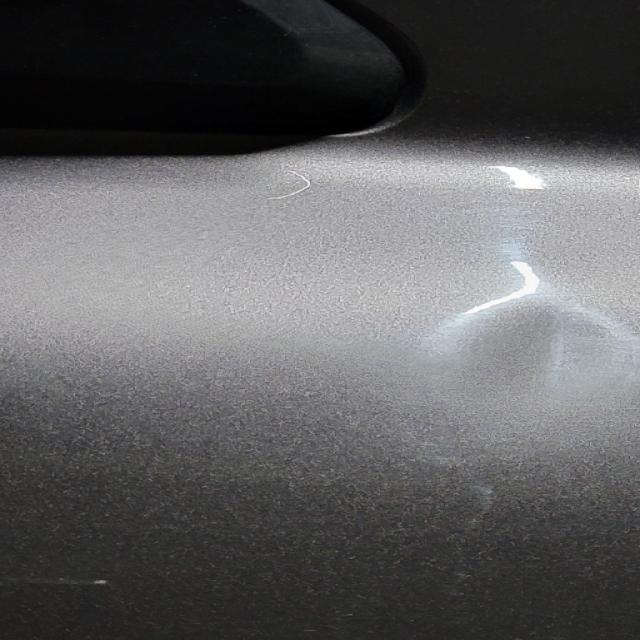dents: (410, 283, 640, 404)
